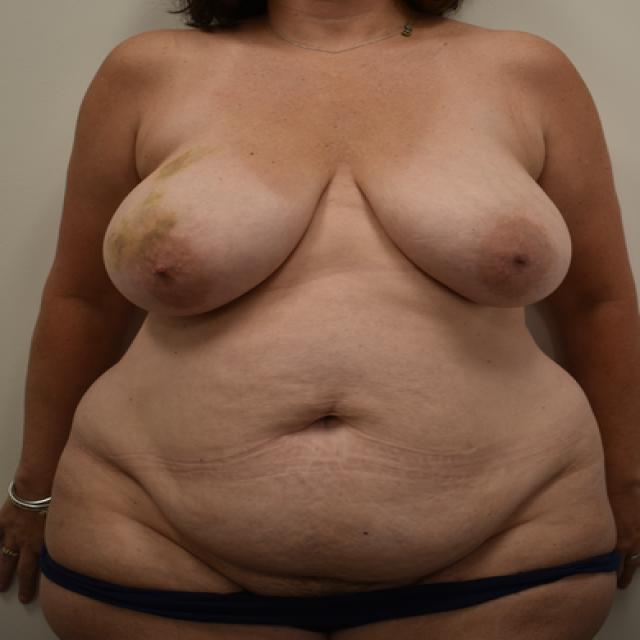Seno herido: (94, 107, 341, 337)
Seno ileso: (348, 109, 582, 329)
